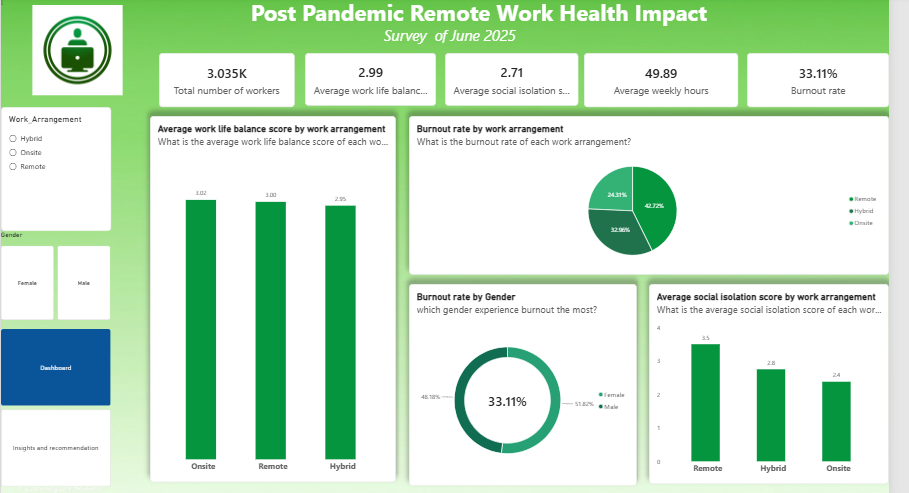

The page's visual inventory and layout, read from the dashboard file:
{"tool":"powerbi","page":{"name":"Dashboard","canvas":[1920,1080],"ordinal":0},"visuals":[{"type":"textbox","box":[540,0,1378.1,121],"z":0},{"type":"textbox","box":[0,0,307.1,1081],"z":1000},{"type":"pieChart","title":"Burnout rate by work arrangement","fields":{"Category":["post_pandemic_remote_work_health.Work_Arrangement"],"Y":["post_pandemic_remote_work_health.Burnout rate"]},"box":[881.3,257,1036.8,343.4],"z":2000},{"type":"card","fields":{"Values":["post_pandemic_remote_work_health.Total number of workers"]},"box":[340.5,121.4,292.9,116.7],"z":3000},{"type":"card","fields":{"Values":["post_pandemic_remote_work_health.Average work life balance score"]},"box":[657.1,121.4,283.3,113.9],"z":4000},{"type":"card","fields":{"Values":["post_pandemic_remote_work_health.Average social isolation score"]},"box":[959.5,121.4,288.1,114.3],"z":5000},{"type":"card","fields":{"Values":["post_pandemic_remote_work_health.Average weekly hours"]},"box":[1259.5,121.4,333.3,116.7],"z":6000},{"type":"card","fields":{"Values":["post_pandemic_remote_work_health.Burnout rate"]},"box":[1611.9,121.4,307.1,116.7],"z":7000},{"type":"clusteredColumnChart","title":"Average social isolation score by work arrangement","fields":{"Category":["post_pandemic_remote_work_health.Work_Arrangement"],"Y":["post_pandemic_remote_work_health.Average social isolation score"]},"box":[1399.7,619.9,518.4,432],"z":8000},{"type":"donutChart","title":"Burnout rate by Gender","fields":{"Category":["post_pandemic_remote_work_health.Gender"],"Y":["post_pandemic_remote_work_health.Burnout rate"]},"box":[881.3,619.9,492.5,436.3],"z":9000},{"type":"clusteredColumnChart","title":"Average work life balance score by work arrangement","fields":{"Category":["post_pandemic_remote_work_health.Work_Arrangement"],"Y":["post_pandemic_remote_work_health.Average work life balance score"]},"box":[321.8,257,531.4,790.6],"z":10000},{"type":"image","box":[23.8,16.7,283.3,195.2],"z":11000},{"type":"listSlicer","fields":{"Values":["post_pandemic_remote_work_health.Work_Arrangement"]},"box":[0,237.5,237.5,267.5],"z":13001},{"type":"pageNavigator","box":[0,717.5,237.5,340],"z":13002},{"type":"advancedSlicerVisual","fields":{"Values":["post_pandemic_remote_work_health.Gender"]},"box":[0,505,237.5,192.5],"z":13003},{"type":"textbox","box":[827.3,60.5,786.2,54],"z":13004}]}

Visuals, with their boxes on the page's 1920x1080 design canvas (x1, y1, x2, y2). These are canvas units, not pixel positions in the 909x493 screenshot, which may show the page scaled, cropped or inside an application window:
textbox: <bbox>540, 0, 1918, 121</bbox>
textbox: <bbox>0, 0, 307, 1081</bbox>
"Burnout rate by work arrangement" pieChart: <bbox>881, 257, 1918, 600</bbox>
card - post_pandemic_remote_work_health.Total number of workers: <bbox>340, 121, 633, 238</bbox>
card - post_pandemic_remote_work_health.Average work life balance score: <bbox>657, 121, 940, 235</bbox>
card - post_pandemic_remote_work_health.Average social isolation score: <bbox>960, 121, 1248, 236</bbox>
card - post_pandemic_remote_work_health.Average weekly hours: <bbox>1260, 121, 1593, 238</bbox>
card - post_pandemic_remote_work_health.Burnout rate: <bbox>1612, 121, 1919, 238</bbox>
"Average social isolation score by work arrangement" clusteredColumnChart: <bbox>1400, 620, 1918, 1052</bbox>
"Burnout rate by Gender" donutChart: <bbox>881, 620, 1374, 1056</bbox>
"Average work life balance score by work arrangement" clusteredColumnChart: <bbox>322, 257, 853, 1048</bbox>
image: <bbox>24, 17, 307, 212</bbox>
listSlicer - post_pandemic_remote_work_health.Work_Arrangement: <bbox>0, 238, 238, 505</bbox>
pageNavigator: <bbox>0, 718, 238, 1058</bbox>
advancedSlicerVisual - post_pandemic_remote_work_health.Gender: <bbox>0, 505, 238, 698</bbox>
textbox: <bbox>827, 60, 1614, 114</bbox>
